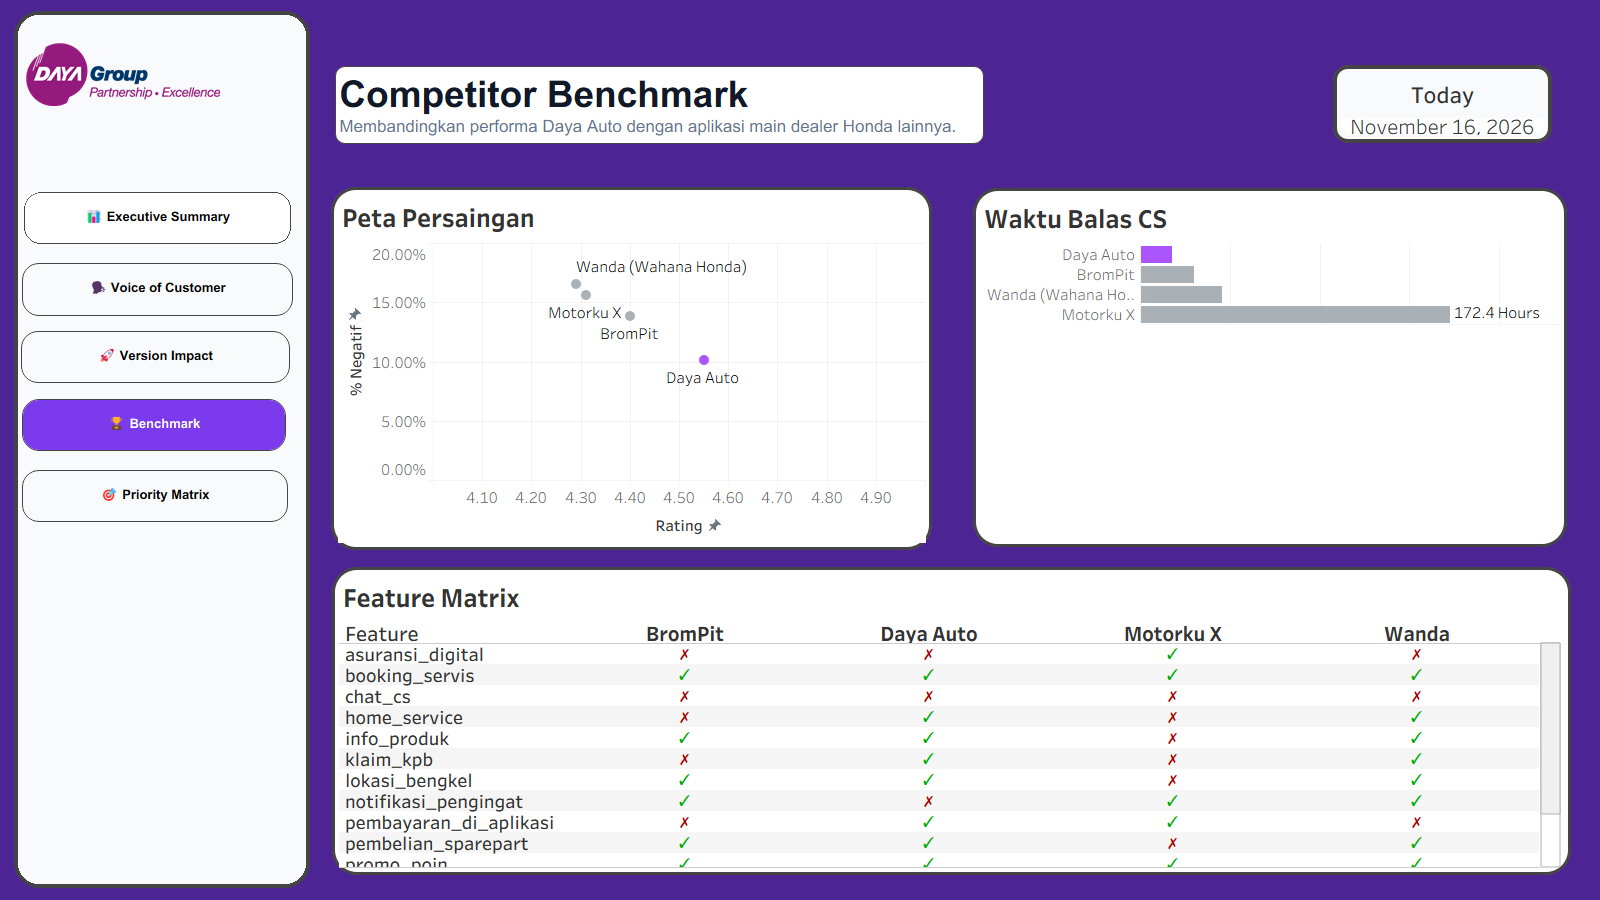

Layout of this report page (visuals, bound fields, positions):
{"tool":"tableau","page":{"name":"Benchmark","canvas":[1600,900],"ordinal":0},"visuals":[{"type":"blank","box":[18.4,15.2,288,868.4]},{"type":"image","param":"C:/Users/hp/Downloads/LOGO-DAYA-GROUP-WEBSITE.png","box":[25.6,42.8,272,63]},{"type":"text","box":[335,66,649,78]},{"type":"worksheet","title":"Today Card","mark":"Automatic","box":[1337,69,211,70]},{"type":"worksheet","title":"Peta Persaingan","mark":"Circle","rows":["pct_negative"],"cols":["avg_rating"],"box":[334,190,595,357]},{"type":"worksheet","title":"Waktu Balas CS","mark":"Bar","rows":["app_name"],"cols":["median_reply_hours"],"box":[976,191,588,323]},{"type":"dashboard-object","box":[24,192.4,267.2,51.7]},{"type":"dashboard-object","box":[22,263,271,53]},{"type":"dashboard-object","box":[20.8,330.8,268.8,51.7]},{"type":"dashboard-object","box":[22.4,399.4,264,51.7]},{"type":"dashboard-object","box":[22.4,470.2,265.6,51.7]},{"type":"worksheet","title":"Feature Matrix","mark":"Automatic","rows":["feature"],"cols":["app_name"],"box":[335,570,1233,302]}]}

Visuals, with their boxes in screenshot pixels (x1, y1, x2, y2), scaled from the page's 1600x900 canvas onto the 1600x900 screenshot:
blank: <bbox>18, 15, 306, 884</bbox>
image: <bbox>26, 43, 298, 106</bbox>
text: <bbox>335, 66, 984, 144</bbox>
"Today Card" worksheet: <bbox>1337, 69, 1548, 139</bbox>
"Peta Persaingan" worksheet (Circle marks): <bbox>334, 190, 929, 547</bbox>
"Waktu Balas CS" worksheet (Bar marks): <bbox>976, 191, 1564, 514</bbox>
dashboard-object: <bbox>24, 192, 291, 244</bbox>
dashboard-object: <bbox>22, 263, 293, 316</bbox>
dashboard-object: <bbox>21, 331, 290, 382</bbox>
dashboard-object: <bbox>22, 399, 286, 451</bbox>
dashboard-object: <bbox>22, 470, 288, 522</bbox>
"Feature Matrix" worksheet: <bbox>335, 570, 1568, 872</bbox>
